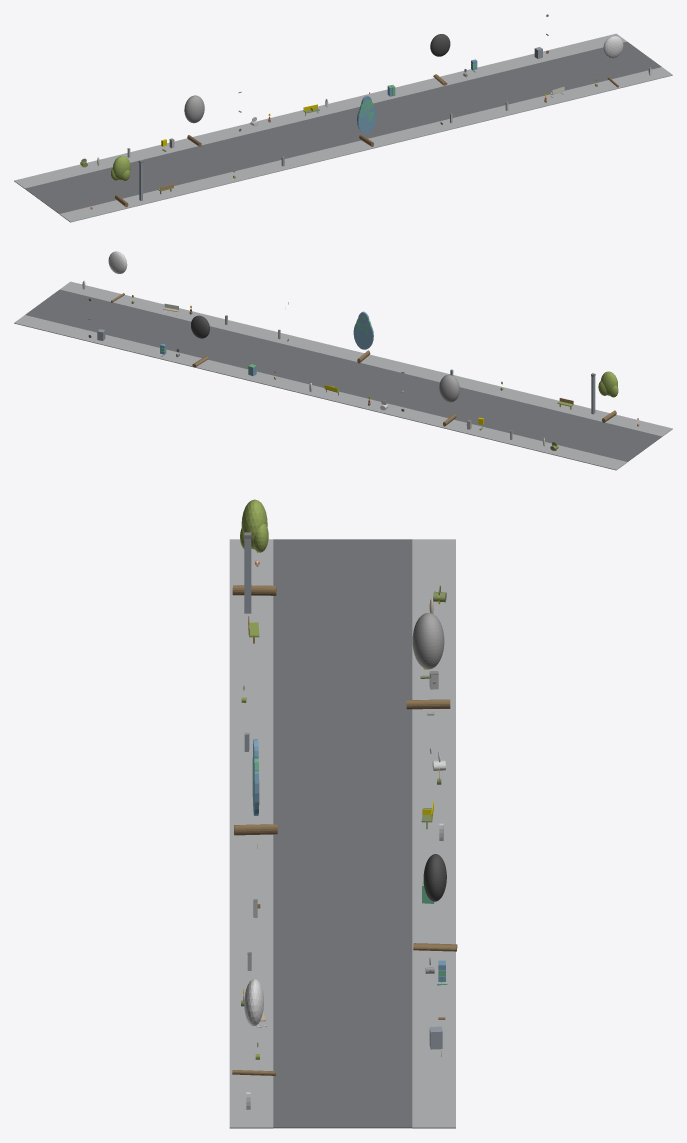
3 views of the same model, one above another, from view 1: azimuth 30°, elevation 25°; view 2: azimuth 150°, elevation 25°; view 3: azimuth 270°, elevation 25° (orthographic). The views are drawn at different scales.
Parts seen in each view (by area): view 1: road_slab, sidewalk_left, sidewalk_right, inst_0014, inst_0013, inst_0012, inst_0015, inst_0016; view 2: road_slab, sidewalk_right, sidewalk_left, inst_0014, inst_0013, inst_0012, inst_0015, inst_0016; view 3: road_slab, sidewalk_left, sidewalk_right, inst_0013, inst_0012, inst_0015, inst_0014, inst_0016.
Part boxes in pixels (x1=…): road_slab: x1=25, y1=41, x2=661, y2=213; sidewalk_left: x1=59, y1=67, x2=672, y2=222; sidewalk_right: x1=14, y1=33, x2=626, y2=188; inst_0014: x1=357, y1=95, x2=376, y2=146; inst_0013: x1=184, y1=95, x2=204, y2=146; inst_0012: x1=111, y1=155, x2=130, y2=207; inst_0015: x1=430, y1=34, x2=450, y2=85; inst_0016: x1=603, y1=36, x2=623, y2=87; road_slab: x1=25, y1=289, x2=661, y2=461; sidewalk_right: x1=14, y1=315, x2=627, y2=470; sidewalk_left: x1=60, y1=281, x2=672, y2=436; inst_0014: x1=353, y1=311, x2=373, y2=363; inst_0013: x1=439, y1=374, x2=459, y2=426; inst_0012: x1=598, y1=371, x2=618, y2=422; inst_0015: x1=191, y1=315, x2=209, y2=367; inst_0016: x1=108, y1=251, x2=127, y2=302; road_slab: x1=273, y1=539, x2=412, y2=1128; sidewalk_left: x1=229, y1=539, x2=273, y2=1128; sidewalk_right: x1=412, y1=539, x2=455, y2=1128; inst_0013: x1=406, y1=612, x2=450, y2=709; inst_0012: x1=232, y1=499, x2=276, y2=595; inst_0015: x1=413, y1=854, x2=457, y2=951; inst_0014: x1=234, y1=739, x2=277, y2=835; inst_0016: x1=232, y1=979, x2=275, y2=1075.
Size of the model in its own units: 80 by 6.08 by 13.08.
